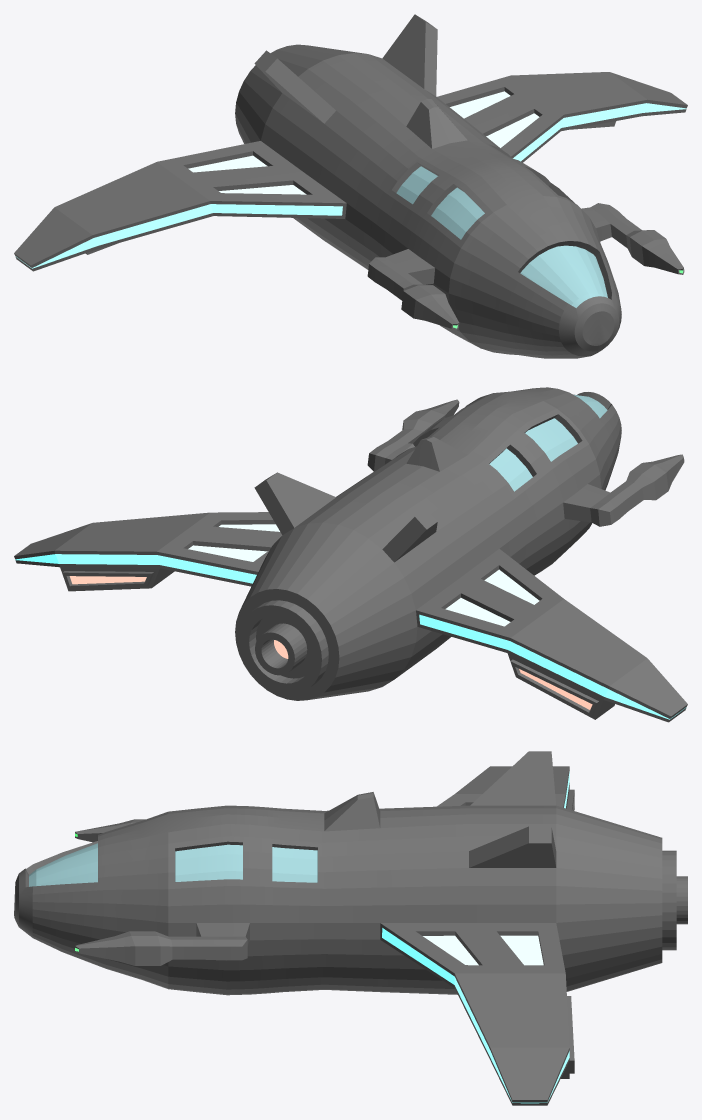
File: spaceship2.glb
The picture shows the model from 3 angles, top to bottom: view 1: azimuth 30°, elevation 25°; view 2: azimuth 150°, elevation 25°; view 3: azimuth 270°, elevation 25°; orthographic projection. The views are drawn at different scales.
Visible parts, largest first — view 1: Spaceship; view 2: Spaceship; view 3: Spaceship.
Part boxes in pixels (x1,y1,x2,y2): Spaceship: (14,14,687,358); Spaceship: (14,387,687,722); Spaceship: (14,751,687,1105).
Size of the model in its own units: 8.3 by 2.3 by 7.1.
